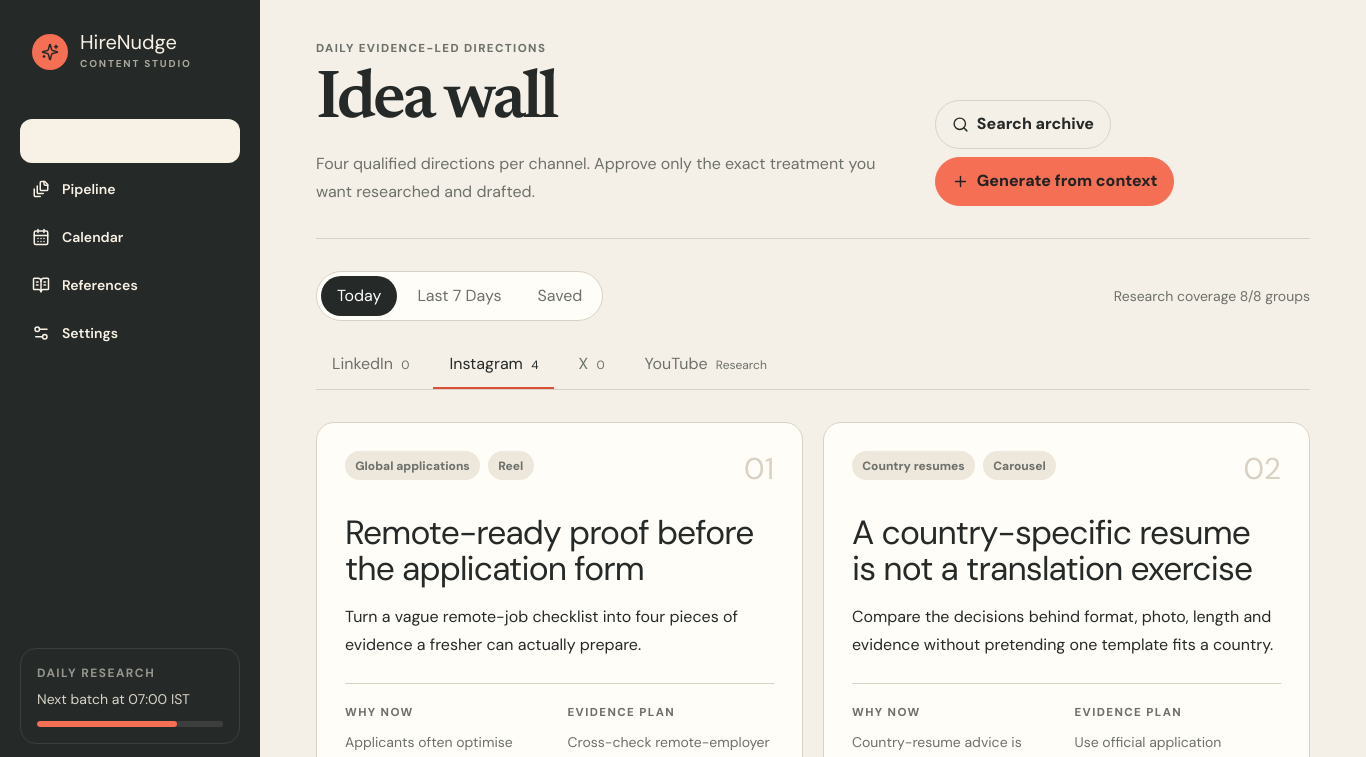
it: Ideas page › opens custom generation with all supported context inputs
The image size is (1366, 757).
Click the button "Generate from context". click: (1055, 181)
box: [935,157,1174,206]
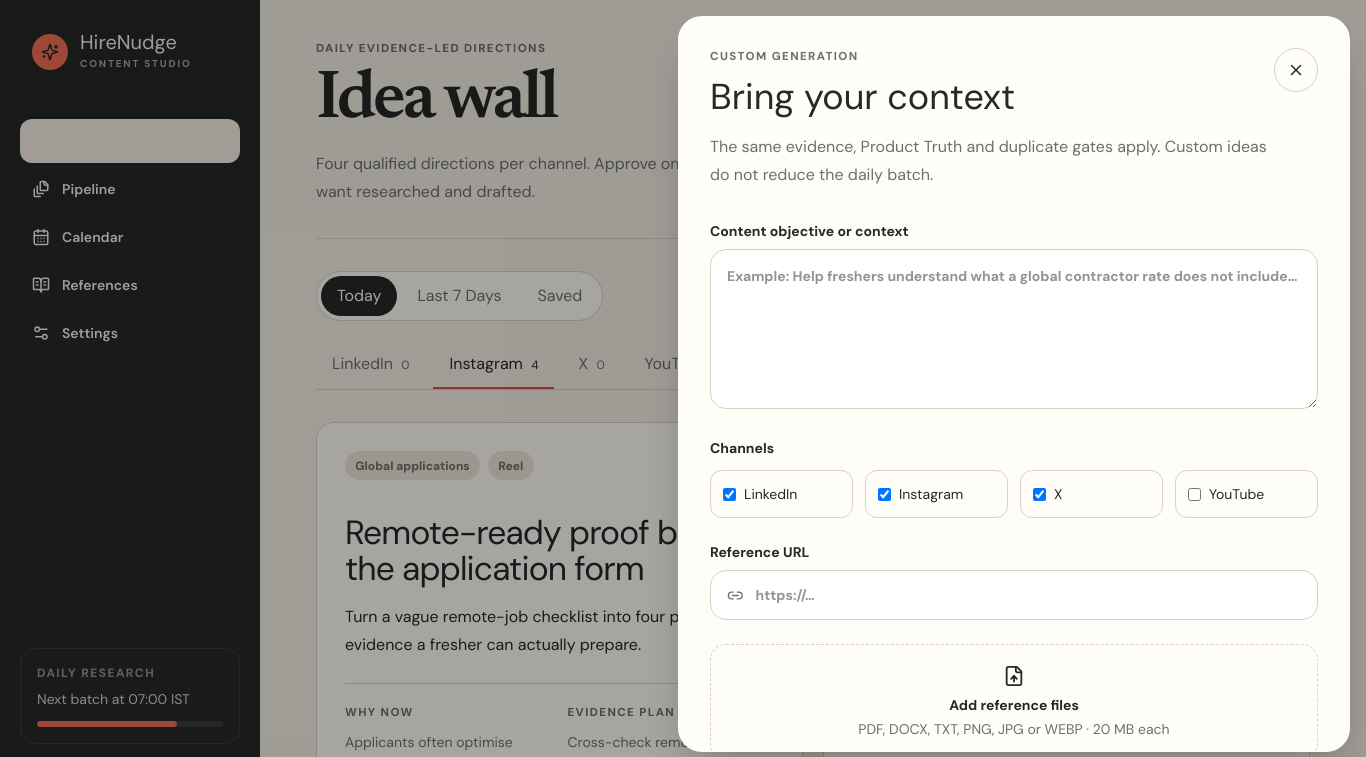
Result: the dialog named "Generate ideas from context" is shown at [678,16,1350,752]
Result: the text box labelled "Content objective or context" is shown at [710,249,1318,409]
Result: the field labelled "Reference URL" is shown at [744,571,1301,619]
